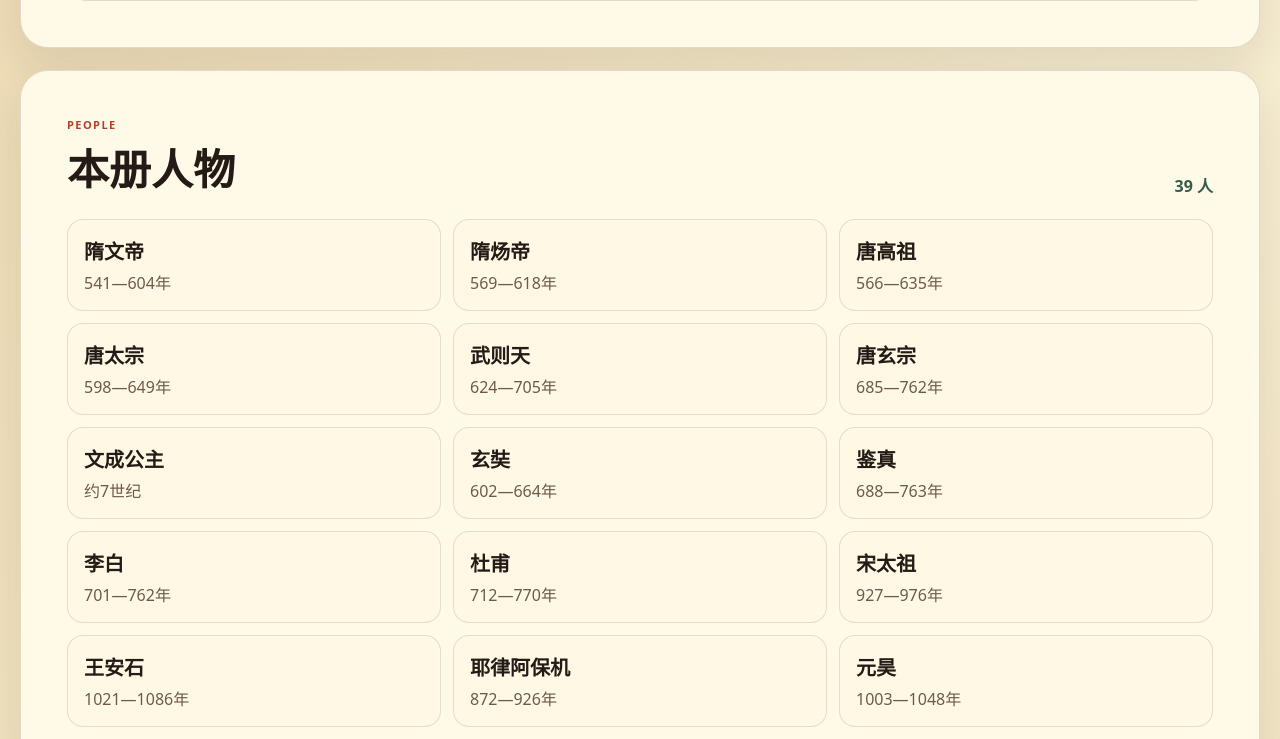
TextbookPage › grade-7-down 点击人物和事件卡片后弹层展示关联课程
(page scrolled)
Expected: the element with test id "textbook-person-card-g7d-li-shimin" does not show "从“贞观之治”到“开元盛世”"
Click the button with test id "textbook-person-card-g7d-li-shimin" at (114, 356), box [67,323,441,415]
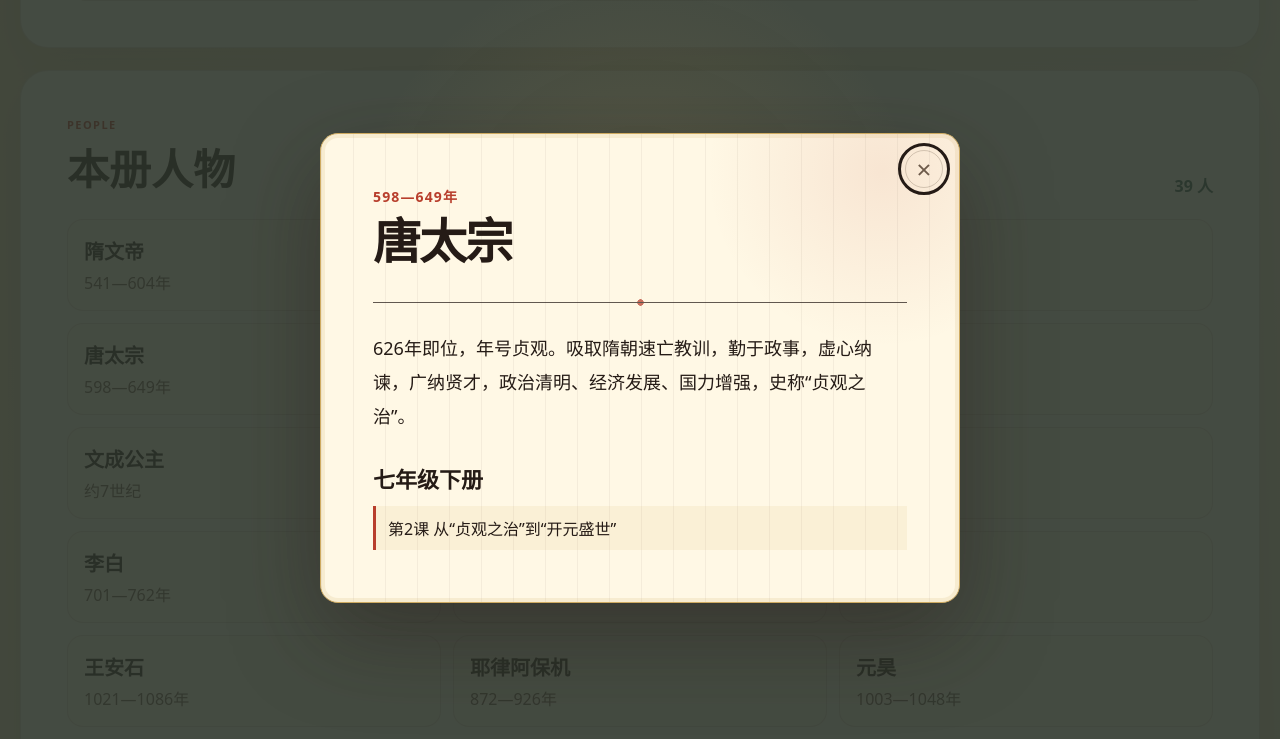
Expected: the dialog with test id "textbook-person-detail" shows "唐太宗", [373,216,511,269]
Expected: the dialog with test id "textbook-person-detail" shows "从“贞观之治”到“开元盛世”", [373,506,907,550]
Click the button with test id "close-person-detail" at (924, 169), box [905,150,943,188]
(page scrolled)
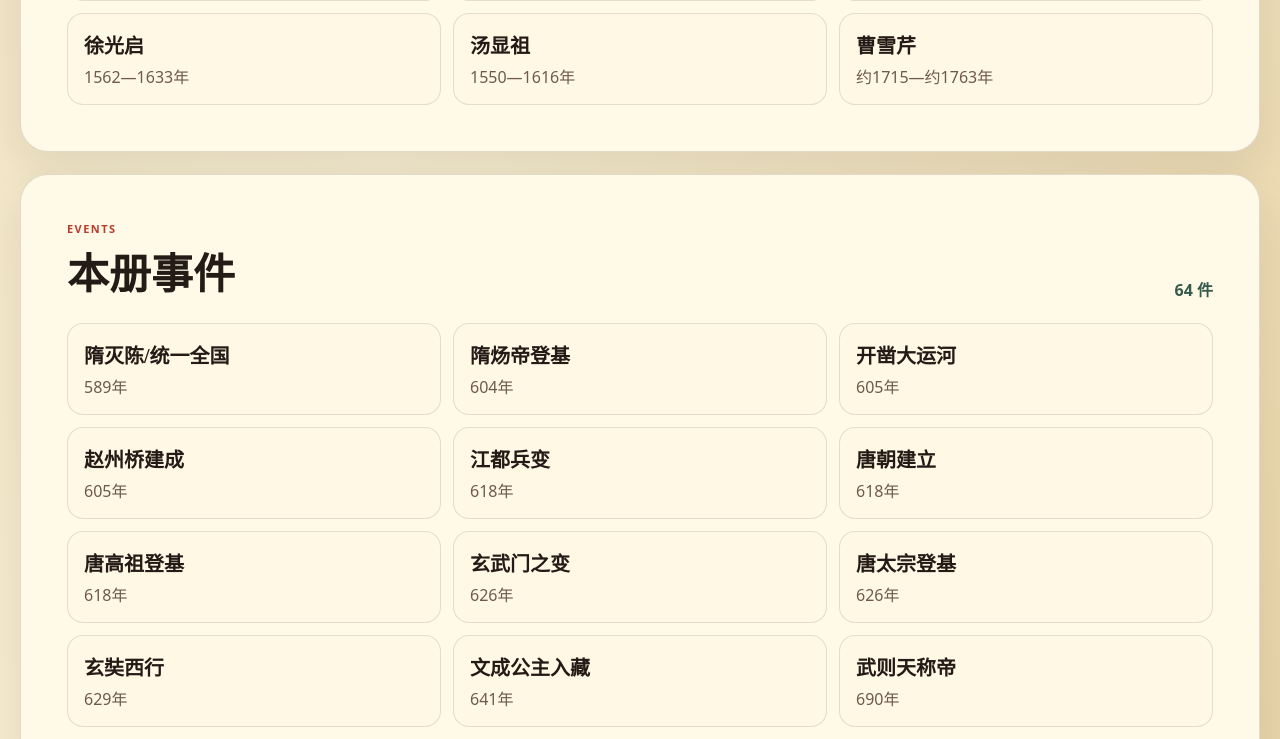
Click the button "隋灭陈/统一全国 589年" at (157, 356), box [67,323,441,415]
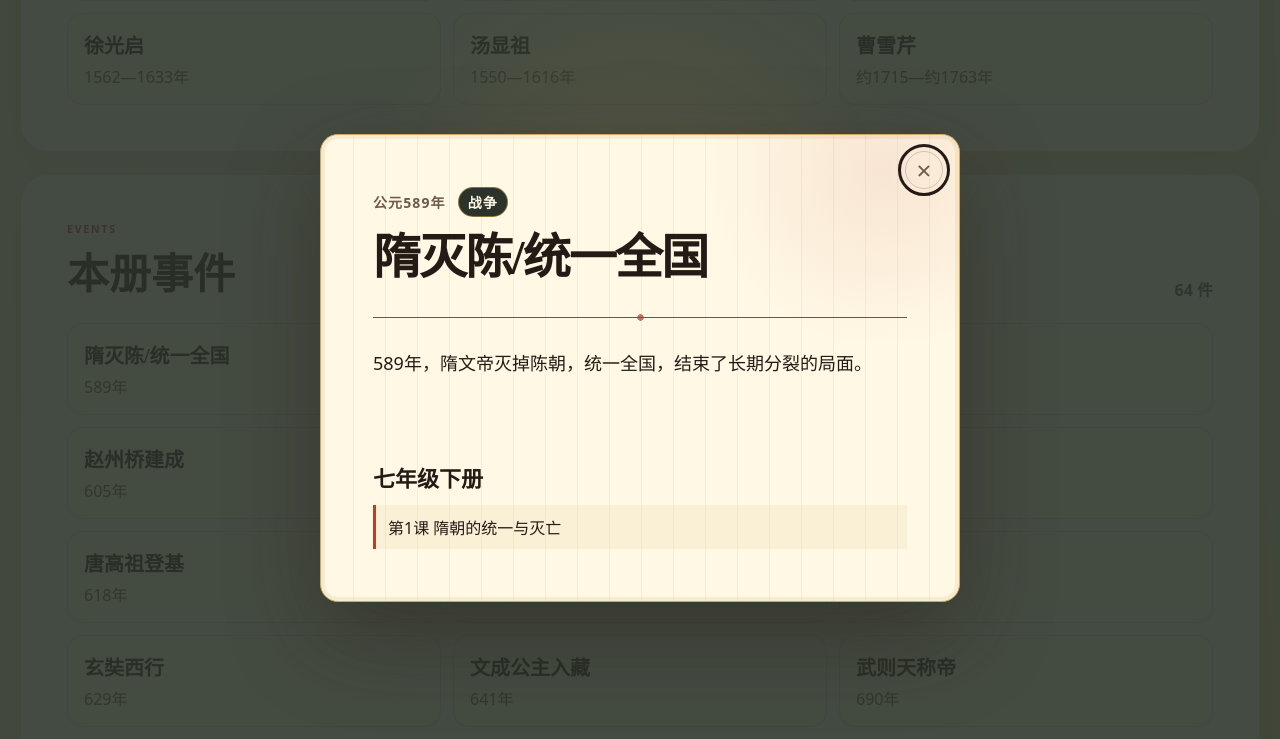
Expected: the dialog with test id "event-detail-overlay" shows "隋灭陈/统一全国", [373,231,707,284]
Expected: the dialog with test id "event-detail-overlay" shows "隋朝的统一与灭亡", [373,505,907,549]
